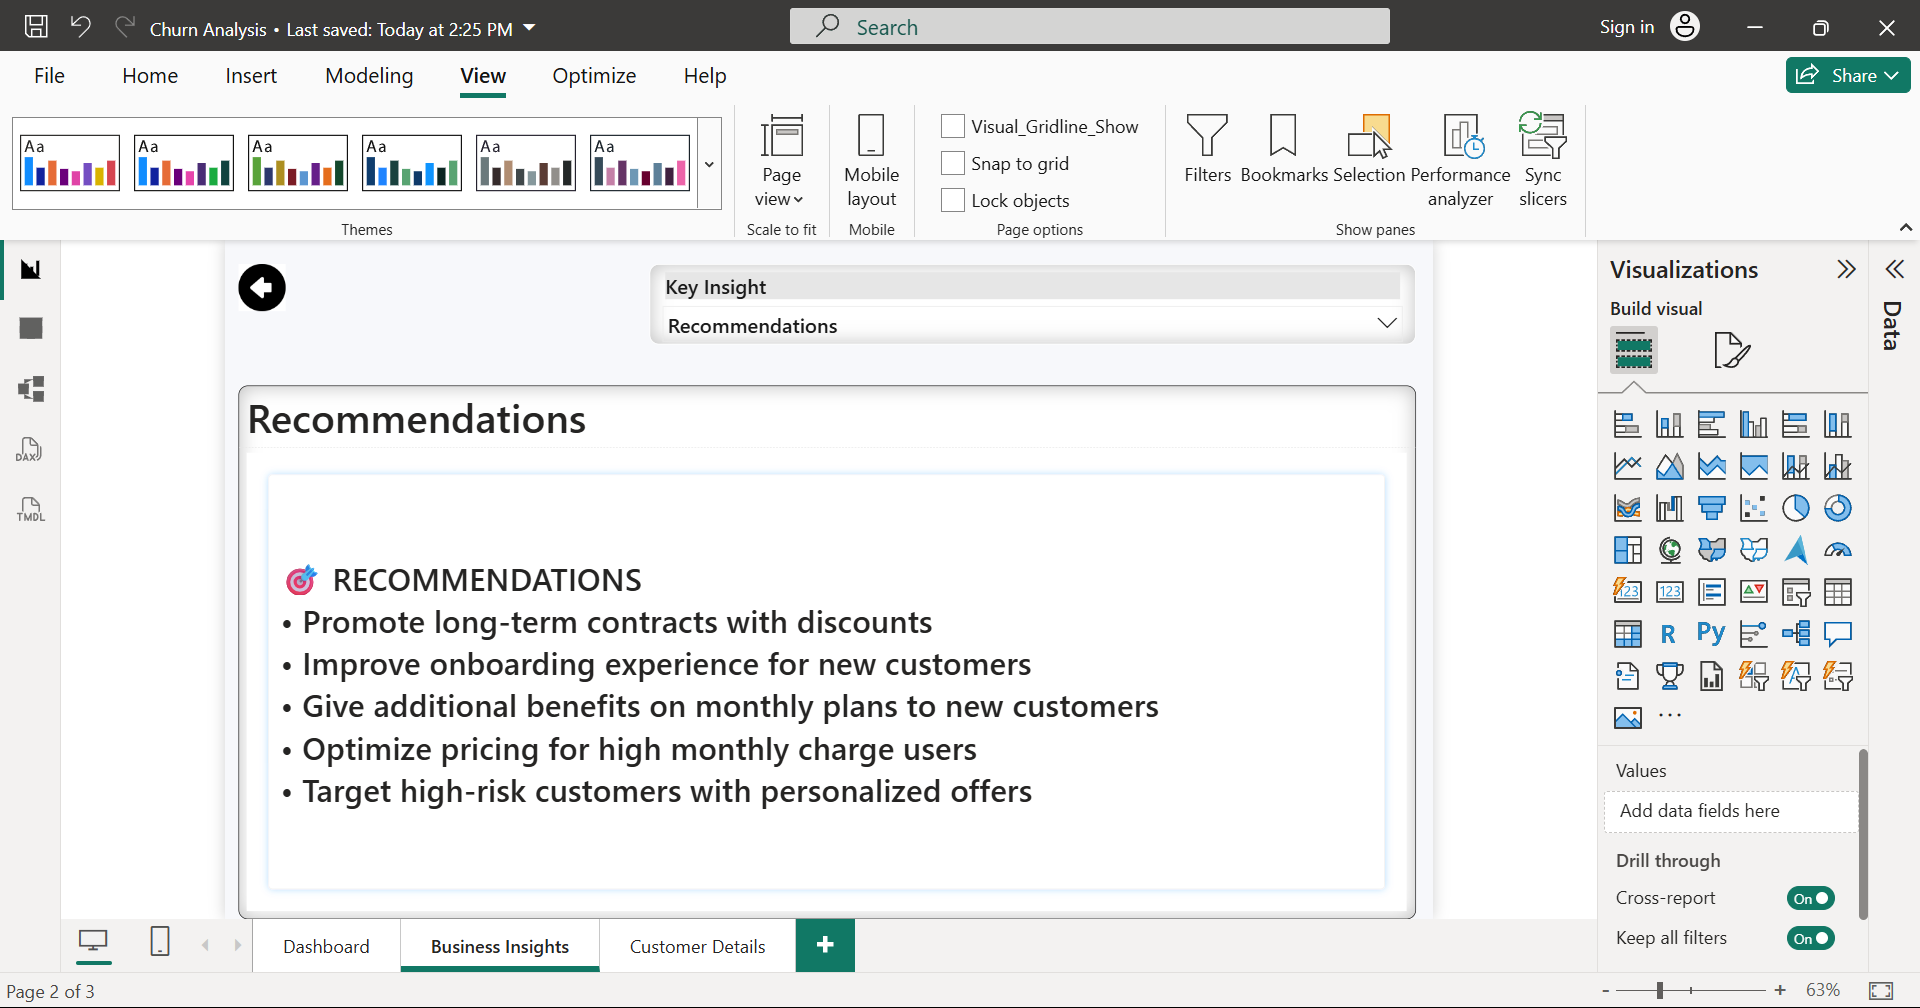

The page's visual inventory and layout, read from the dashboard file:
{"tool":"powerbi","page":{"name":"Business Insights ","canvas":[1280,720],"ordinal":1},"visuals":[{"type":"cardVisual","fields":{"Data":["Nav Selector.Insight Display"]},"box":[14.3,154.3,1248.6,566.3],"z":0},{"type":"slicer","fields":{"Values":["Nav Selector.Section"]},"box":[450,25,812.5,85],"z":1000},{"type":"image","box":[14.3,25.4,50,50],"z":2001}]}

Visuals, with their boxes on the page's 1280x720 design canvas (x1, y1, x2, y2). These are canvas units, not pixel positions in the 1920x1008 screenshot, which may show the page scaled, cropped or inside an application window:
cardVisual - Nav Selector.Insight Display: locate(14, 154, 1263, 721)
slicer - Nav Selector.Section: locate(450, 25, 1262, 110)
image: locate(14, 25, 64, 75)
